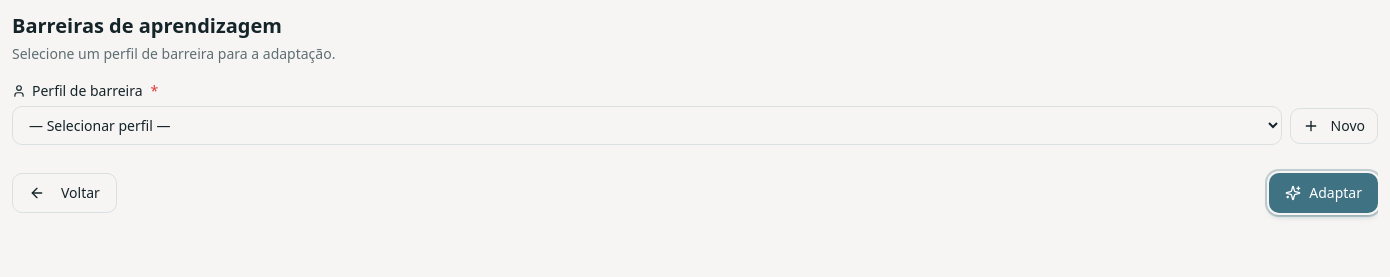
Scenario: StepBarrierSelection › shows error when no profile is selected and user clicks Adaptar
The width and height of the screenshot is (1390, 277).
Click the button "Adaptar". click: x=1324, y=193
box: [1269,173,1378,213]
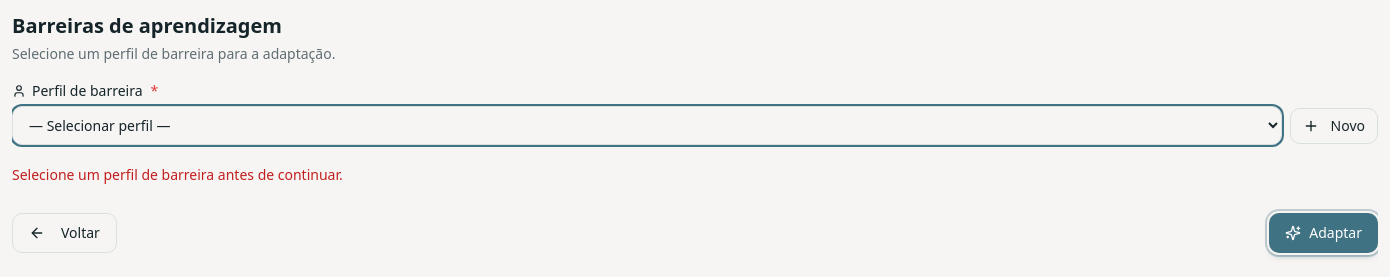
expect the message shows "Selecione um perfil": met, box [12,165,343,184]
